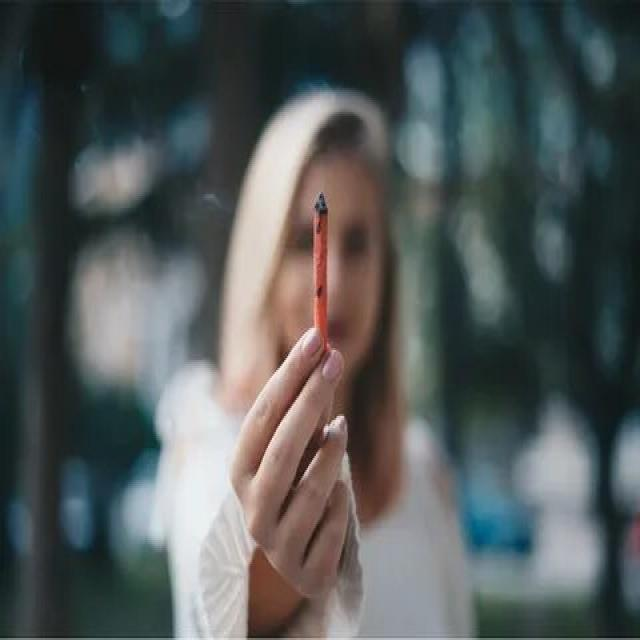cigarette: (308, 190, 335, 370)
